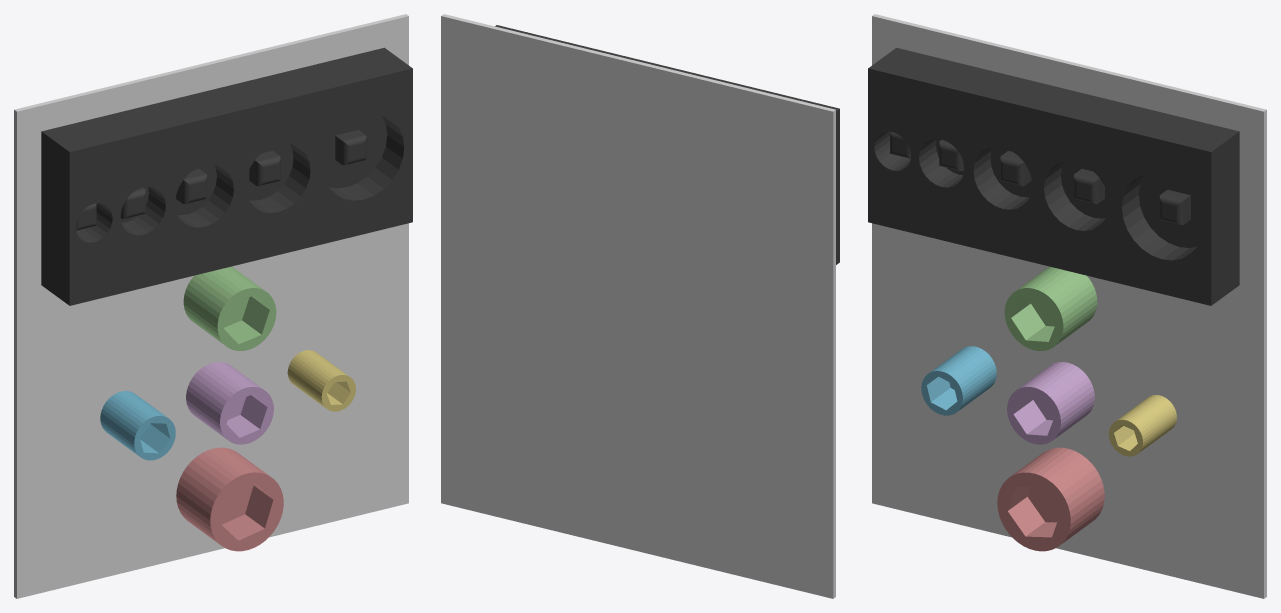
Rendered from pickup_layout.glb.
The picture shows the model from 3 angles, left to right: view 1: azimuth 30°, elevation 25°; view 2: azimuth 150°, elevation 25°; view 3: azimuth 330°, elevation 25°; orthographic projection.
Parts seen in each view (by area): view 1: world, 0.obj, 5.obj, 4.obj, 3.obj, 2.obj, 1.obj; view 2: world, 0.obj; view 3: world, 0.obj, 5.obj, 4.obj, 3.obj, 2.obj, 1.obj.
Boxes of the visible parts, x1=… form: world: x1=14, y1=14, x2=408, y2=598; 0.obj: x1=41, y1=47, x2=412, y2=305; 5.obj: x1=176, y1=447, x2=283, y2=551; 4.obj: x1=183, y1=266, x2=276, y2=350; 3.obj: x1=186, y1=362, x2=273, y2=444; 2.obj: x1=100, y1=391, x2=175, y2=460; 1.obj: x1=287, y1=350, x2=355, y2=411; world: x1=441, y1=14, x2=835, y2=598; 0.obj: x1=495, y1=25, x2=839, y2=264; world: x1=872, y1=14, x2=1266, y2=598; 0.obj: x1=868, y1=47, x2=1239, y2=305; 5.obj: x1=997, y1=447, x2=1104, y2=551; 4.obj: x1=1004, y1=266, x2=1097, y2=350; 3.obj: x1=1007, y1=362, x2=1094, y2=444; 2.obj: x1=921, y1=346, x2=996, y2=415; 1.obj: x1=1108, y1=395, x2=1176, y2=456.
Size of the model in its own units: 16 by 19 by 2.6.
Materials: 1 (1 with a texture image).
